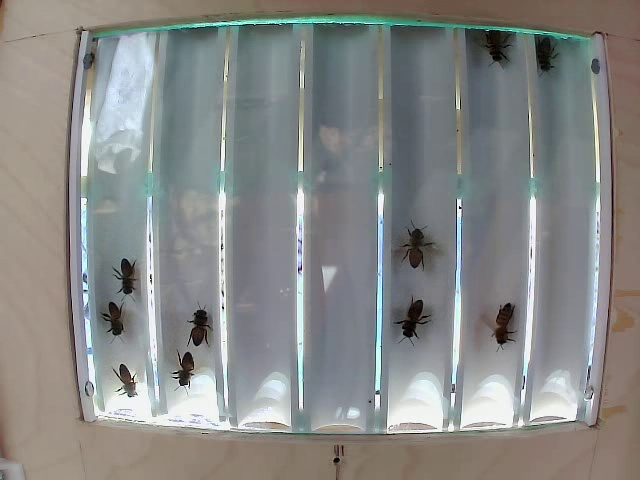bee: (175, 298, 225, 358), (157, 341, 210, 395), (103, 354, 147, 407), (488, 301, 525, 358), (402, 297, 436, 347), (112, 248, 146, 295), (94, 284, 124, 335), (394, 216, 424, 262), (485, 27, 515, 69), (527, 25, 553, 66)
